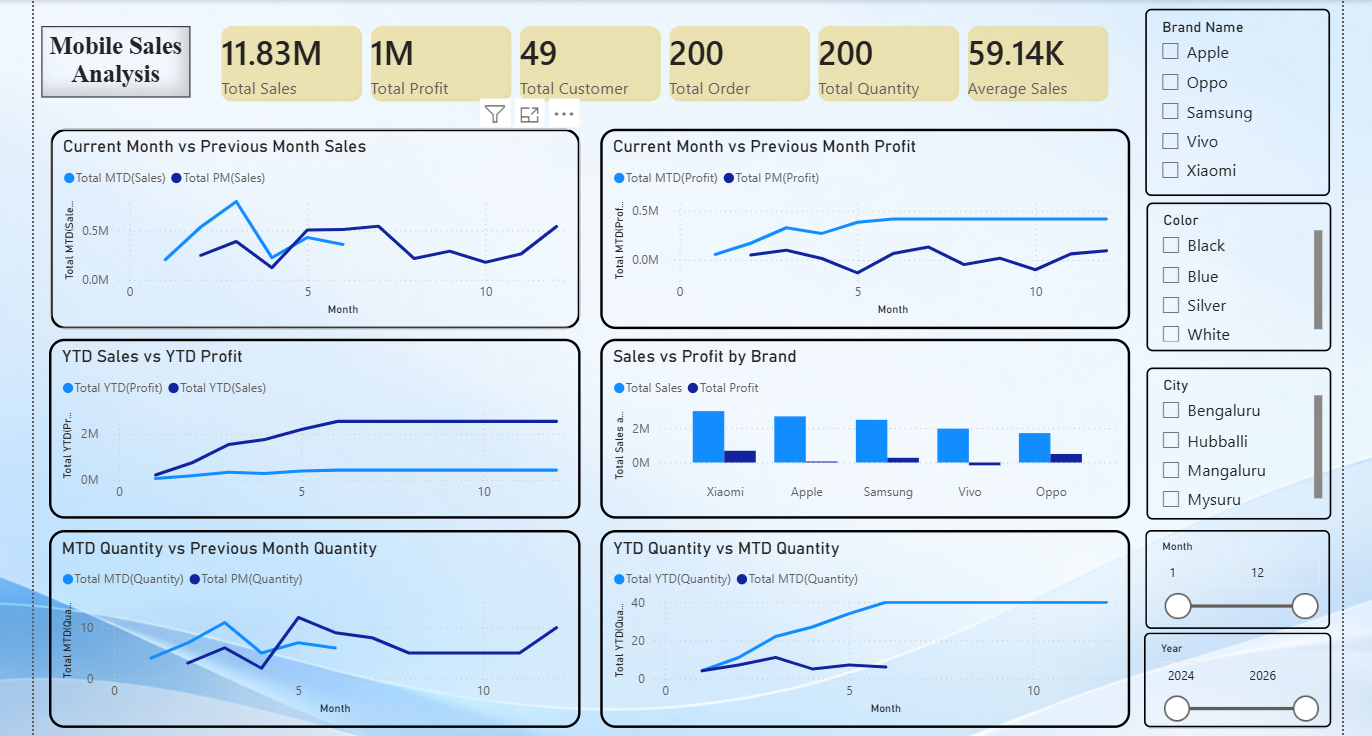

What the dashboard file says about the page in this screenshot:
{"tool":"powerbi","page":{"name":"Page 2","canvas":[1280,720],"ordinal":1},"visuals":[{"type":"cardVisual","fields":{"Data":["FactSales.Total Sales","FactSales.Total Profit","FactSales.Total Customer","FactSales.Total Order","FactSales.Total Quantity","FactSales.Average Sales"]},"box":[166.3,8.6,906.1,108.8],"z":0},{"type":"textbox","box":[7.3,25.7,145.5,69.7],"z":1000},{"type":"slicer","fields":{"Values":["DimBrand.Brand Name"]},"box":[1087.1,8.6,181,183.4],"z":2000},{"type":"slicer","fields":{"Values":["DimProduct.Color"]},"box":[1088.3,198.1,181,145.5],"z":3000},{"type":"slicer","fields":{"Values":["DimCustomer.City"]},"box":[1088.3,359.5,181,149.2],"z":4000},{"type":"slicer","fields":{"Values":["Dim Calender.Month"]},"box":[1087.1,518.5,181,96.6],"z":5000},{"type":"slicer","fields":{"Values":["Dim Calender.Year"]},"box":[1085.7,618.6,182.9,92.9],"z":6000},{"type":"lineChart","title":"Current Month vs Previous Month Sales","fields":{"Category":["Dim Calender.Month"],"Y":["Dim Calender.Total MTD(Sales)","Dim Calender.Total PM(Sales)"]},"box":[15.9,126,518.5,195.7],"z":7000},{"type":"lineChart","title":"Current Month vs Previous Month Profit","fields":{"Category":["Dim Calender.Month"],"Y":["Dim Calender.Total MTD(Profit)","Dim Calender.Total PM(Profit)"]},"box":[553.9,126,518.5,195.7],"z":8000},{"type":"lineChart","title":"YTD Sales vs YTD Profit","fields":{"Category":["Dim Calender.Month"],"Y":["Dim Calender.Total YTD(Profit)","Dim Calender.Total YTD(Sales)"]},"box":[14.7,331.4,519.7,176.1],"z":9000},{"type":"clusteredColumnChart","title":"Sales vs Profit by Brand","fields":{"Category":["DimBrand.Brand Name"],"Y":["FactSales.Total Sales","FactSales.Total Profit"]},"box":[553.9,331.4,518.5,176.1],"z":10000},{"type":"lineChart","title":"MTD Quantity vs Previous Month Quantity","fields":{"Y":["Dim Calender.Total MTD(Quantity)","Dim Calender.Total PM(Quantity)"],"Category":["Dim Calender.Month"]},"box":[14.7,518.5,519.7,193.2],"z":11000},{"type":"lineChart","title":"YTD Quantity vs MTD Quantity","fields":{"Y":["Dim Calender.Total YTD(Quantity)","Dim Calender.Total MTD(Quantity)"],"Category":["Dim Calender.Month"]},"box":[553.9,518.5,518.5,193.2],"z":12000}]}

Visuals, with their boxes in screenshot pixels (x1, y1, x2, y2):
cardVisual - FactSales.Total Sales x FactSales.Total Profit: {"left": 211, "top": 12, "right": 1124, "bottom": 122}
textbox: {"left": 50, "top": 29, "right": 197, "bottom": 100}
slicer - DimBrand.Brand Name: {"left": 1139, "top": 12, "right": 1321, "bottom": 197}
slicer - DimProduct.Color: {"left": 1140, "top": 203, "right": 1322, "bottom": 350}
slicer - DimCustomer.City: {"left": 1140, "top": 366, "right": 1322, "bottom": 516}
slicer - Dim Calender.Month: {"left": 1139, "top": 526, "right": 1321, "bottom": 624}
slicer - Dim Calender.Year: {"left": 1137, "top": 627, "right": 1322, "bottom": 721}
"Current Month vs Previous Month Sales" lineChart: {"left": 59, "top": 131, "right": 582, "bottom": 328}
"Current Month vs Previous Month Profit" lineChart: {"left": 601, "top": 131, "right": 1124, "bottom": 328}
"YTD Sales vs YTD Profit" lineChart: {"left": 58, "top": 338, "right": 582, "bottom": 515}
"Sales vs Profit by Brand" clusteredColumnChart: {"left": 601, "top": 338, "right": 1124, "bottom": 515}
"MTD Quantity vs Previous Month Quantity" lineChart: {"left": 58, "top": 526, "right": 582, "bottom": 721}
"YTD Quantity vs MTD Quantity" lineChart: {"left": 601, "top": 526, "right": 1124, "bottom": 721}
